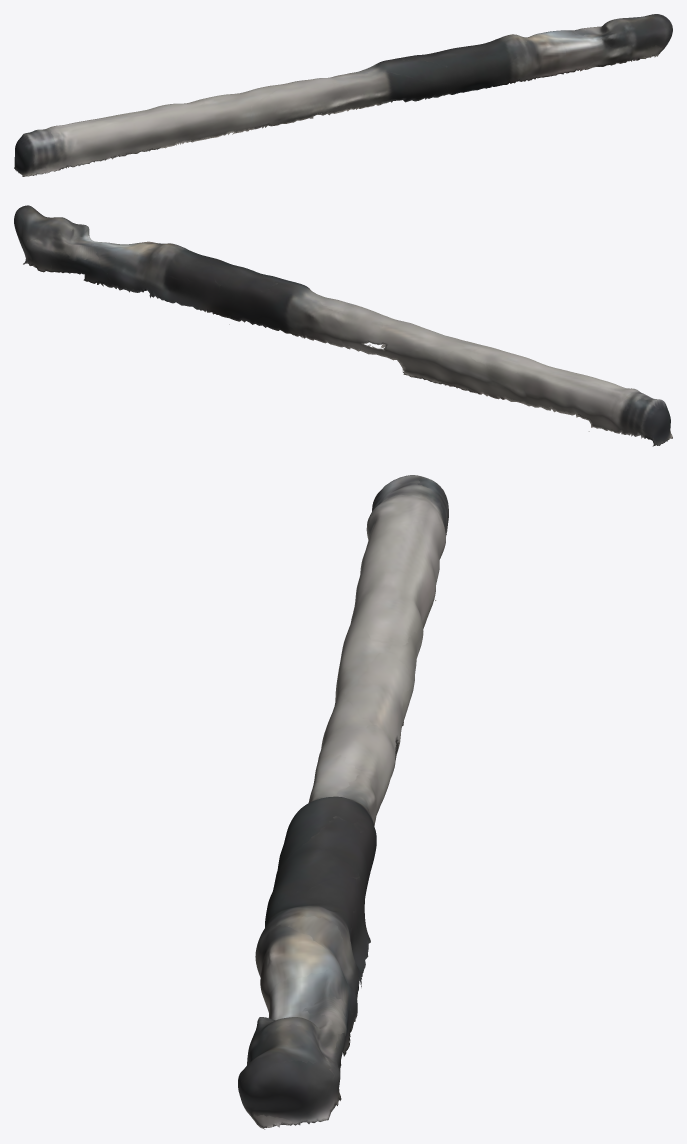
File: scan_fitted.glb
3 views of the same model, one above another, from view 1: azimuth 30°, elevation 25°; view 2: azimuth 150°, elevation 25°; view 3: azimuth 270°, elevation 25° (orthographic). The views are drawn at different scales.
Visible parts, largest first — view 1: 3DModel; view 2: 3DModel; view 3: 3DModel.
Part boxes in pixels (x1=…): 3DModel: x1=14, y1=14, x2=672, y2=176; 3DModel: x1=14, y1=205, x2=672, y2=446; 3DModel: x1=238, y1=475, x2=448, y2=1129.
Bounding box in the file's own units: 0.9338 × 0.0652 × 0.1388.
1 material, 1 textured.
